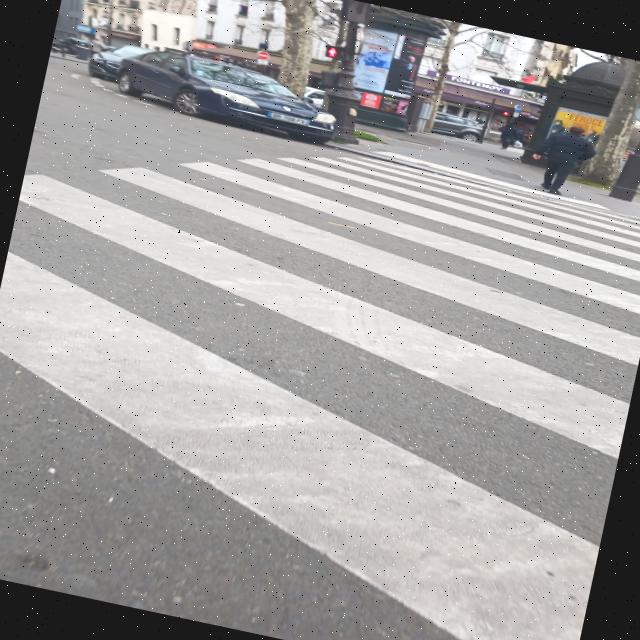EU: (268, 111, 309, 125)
France: (268, 111, 272, 116)
